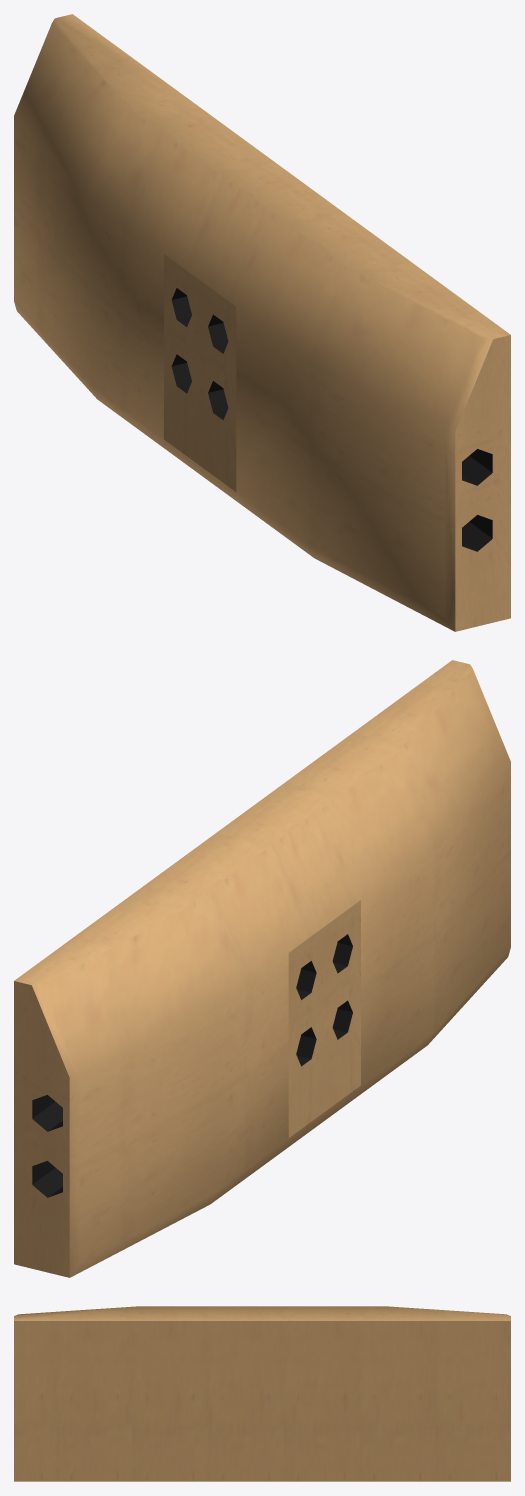
Rendered from SpaceportRCS.fbx.
The picture shows the model from 3 angles, top to bottom: view 1: azimuth 30°, elevation 25°; view 2: azimuth 150°, elevation 25°; view 3: azimuth 270°, elevation 25°; orthographic projection. The views are drawn at different scales.
Visible parts, largest first — view 1: rsc-port; view 2: rsc-port; view 3: rsc-port.
Part boxes in pixels (left/top/right/bottom): rsc-port: left=14, top=14, right=510, bottom=631; rsc-port: left=14, top=660, right=510, bottom=1277; rsc-port: left=14, top=1306, right=510, bottom=1481.
Size of what is drawn, in the model's own units: 0.2581 by 0.7631 by 2.14.
Materials: 1 (1 with a texture image).
